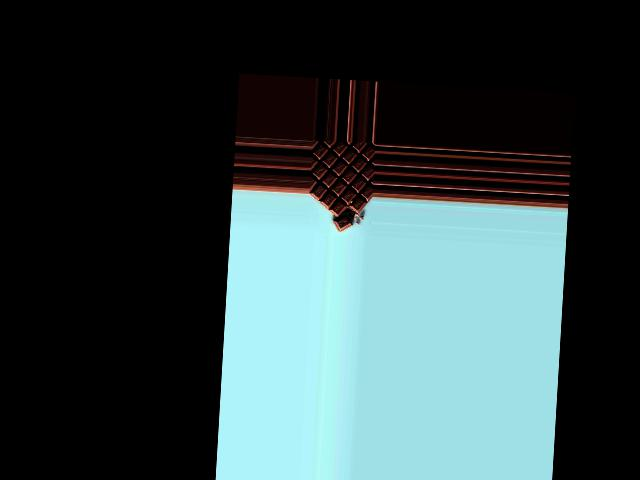chocolate: (310, 139, 374, 224)
